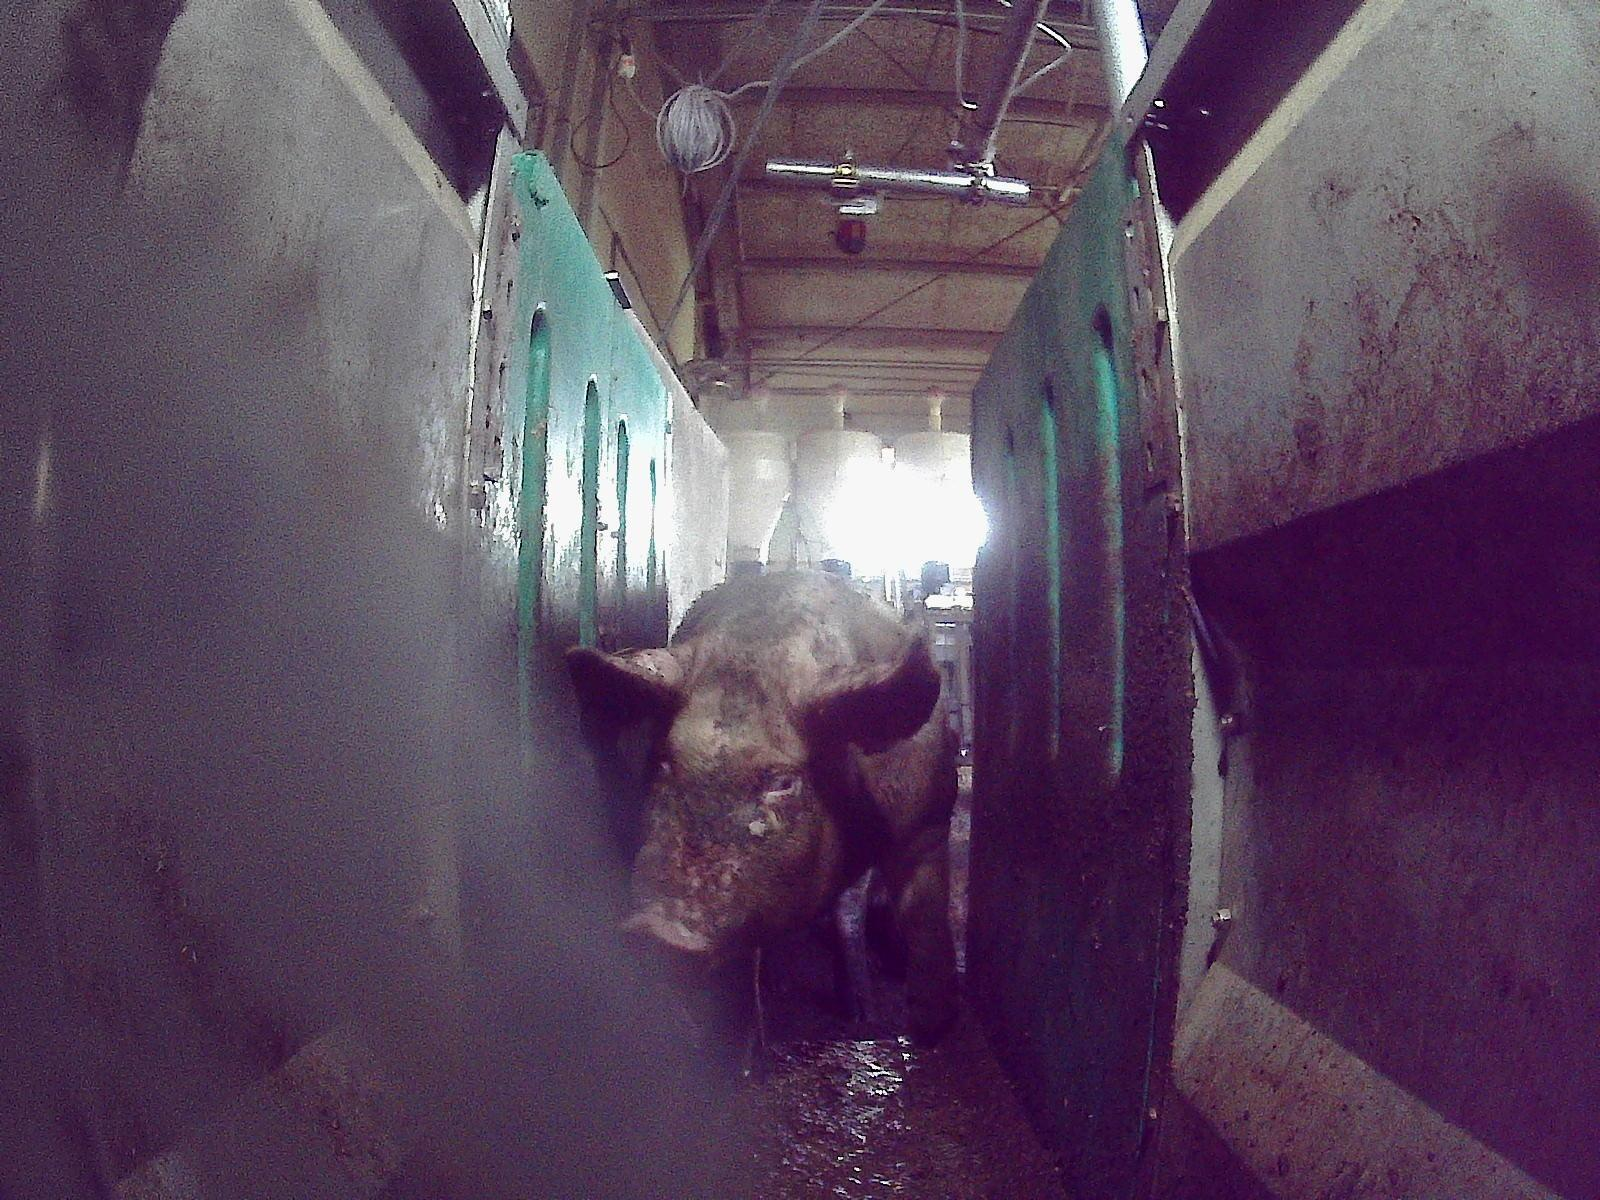Face: (623, 637, 839, 978)
